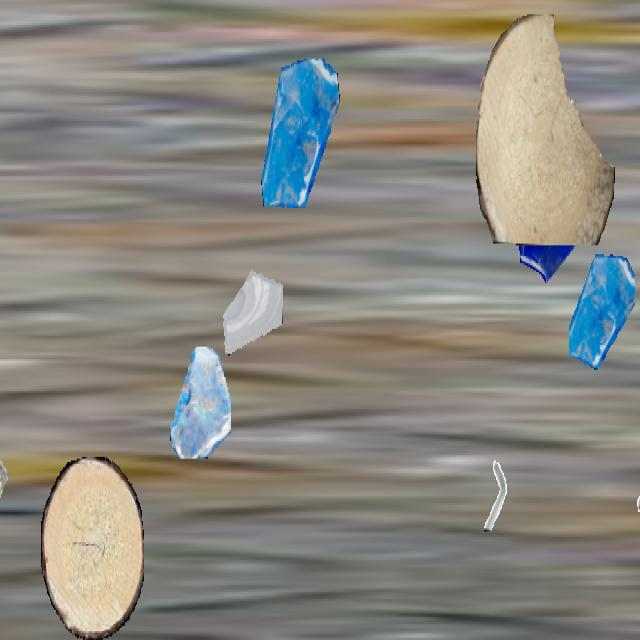glass: (258, 59, 342, 208), (508, 138, 590, 284), (569, 252, 635, 370), (168, 347, 230, 457), (222, 249, 282, 355)
metal: (474, 457, 516, 531), (0, 454, 18, 524), (629, 439, 640, 528)
wood: (476, 14, 614, 246), (41, 457, 143, 638)
